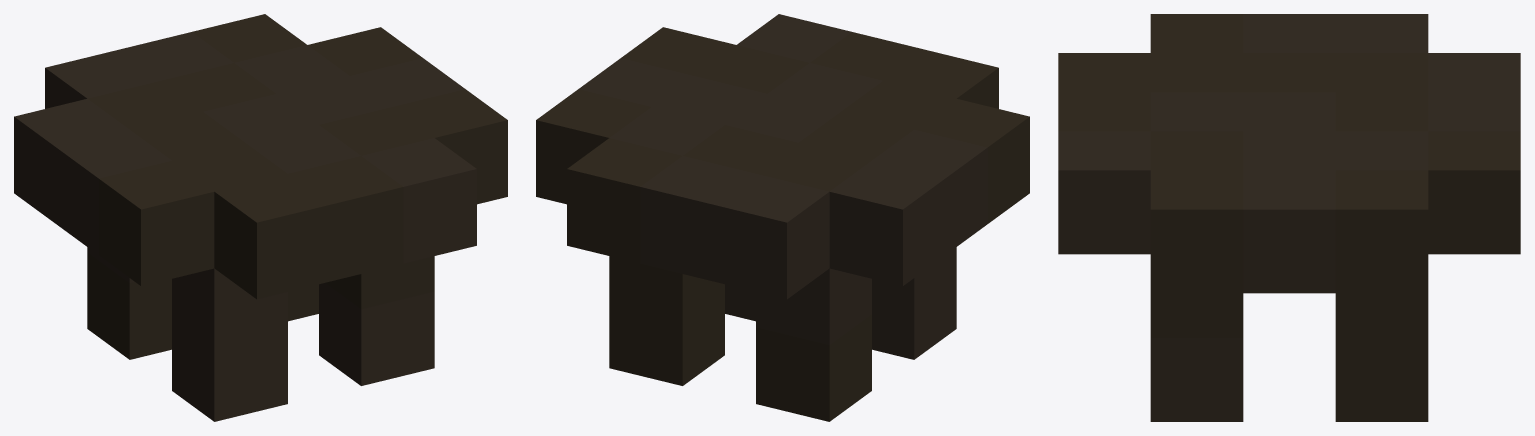
Rendered from tavern-47-stool.obj.
3 renders of one model, left to right at view 1: azimuth 30°, elevation 25°; view 2: azimuth 150°, elevation 25°; view 3: azimuth 270°, elevation 25°, orthographic. The views are drawn at different scales.
Parts seen in each view (by area): view 1: stool; view 2: stool; view 3: stool.
Part boxes in pixels (x1,y1,x2,y2): stool: (14, 14, 507, 421); stool: (536, 14, 1029, 421); stool: (1058, 14, 1520, 421).
Size of the model in its own units: 0.5 by 0.3 by 0.5.
Materials: 1 (1 with a texture image).
